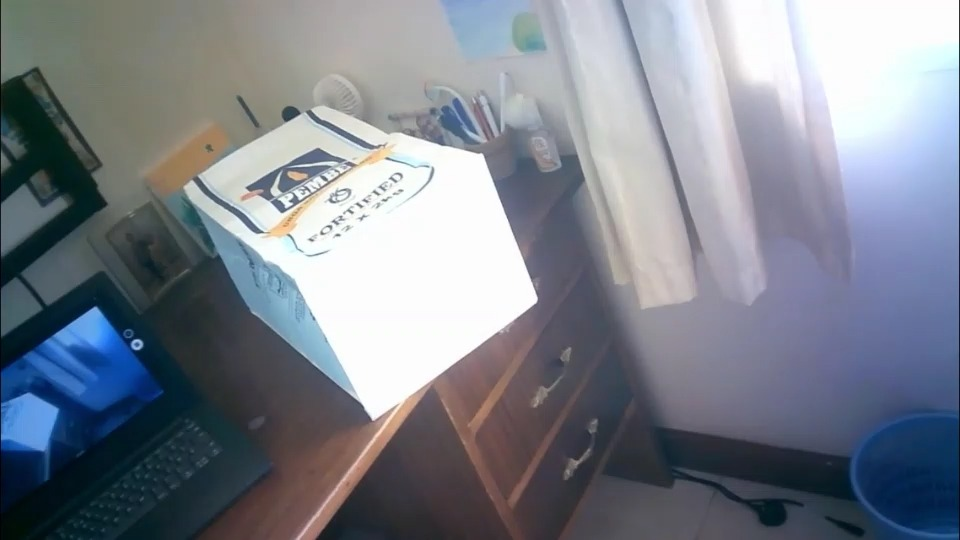wheat_flour_blue_label: (184, 104, 543, 419)
